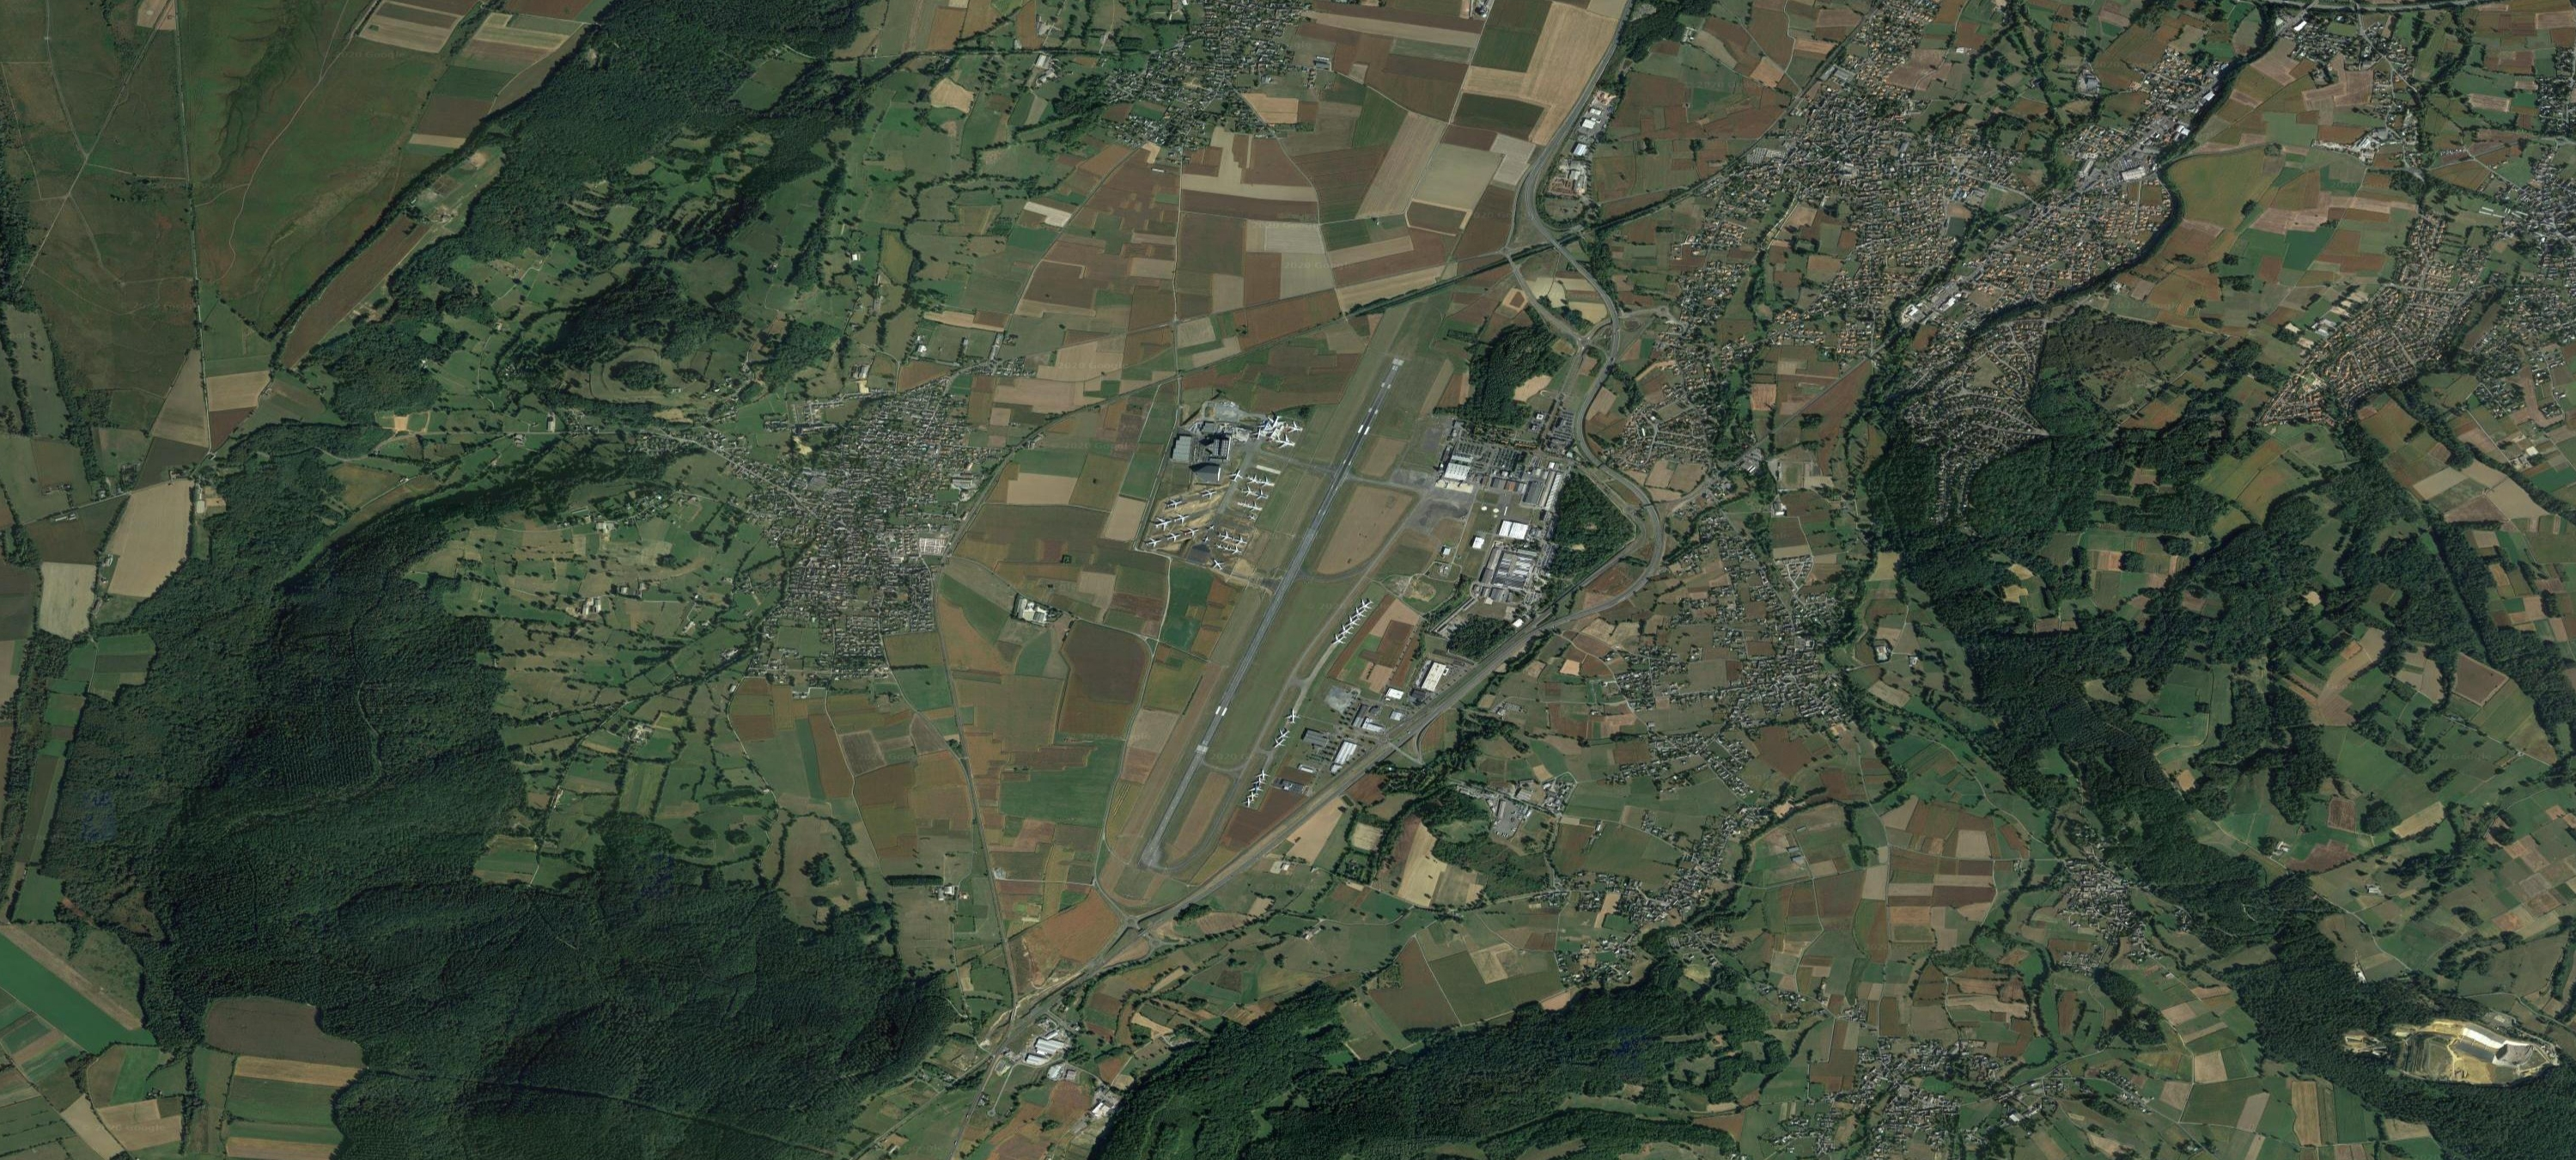airport: (1125, 352, 1487, 882)
motorway: (1212, 780, 1344, 891), (1324, 692, 1452, 790), (1001, 953, 1111, 1042), (1541, 559, 1666, 634), (941, 1033, 1012, 1160), (1104, 887, 1217, 961), (1452, 616, 1556, 697), (1543, 235, 1625, 334), (1594, 460, 1666, 559), (1572, 334, 1625, 462), (1548, 66, 1602, 154), (1595, 2, 1633, 74), (1523, 150, 1548, 250)
